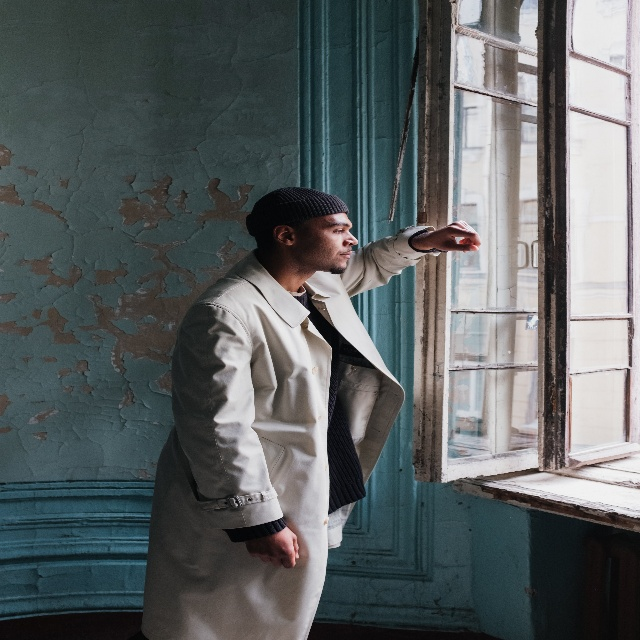Sin_guantes: (419, 218, 480, 258), (241, 529, 302, 566)
